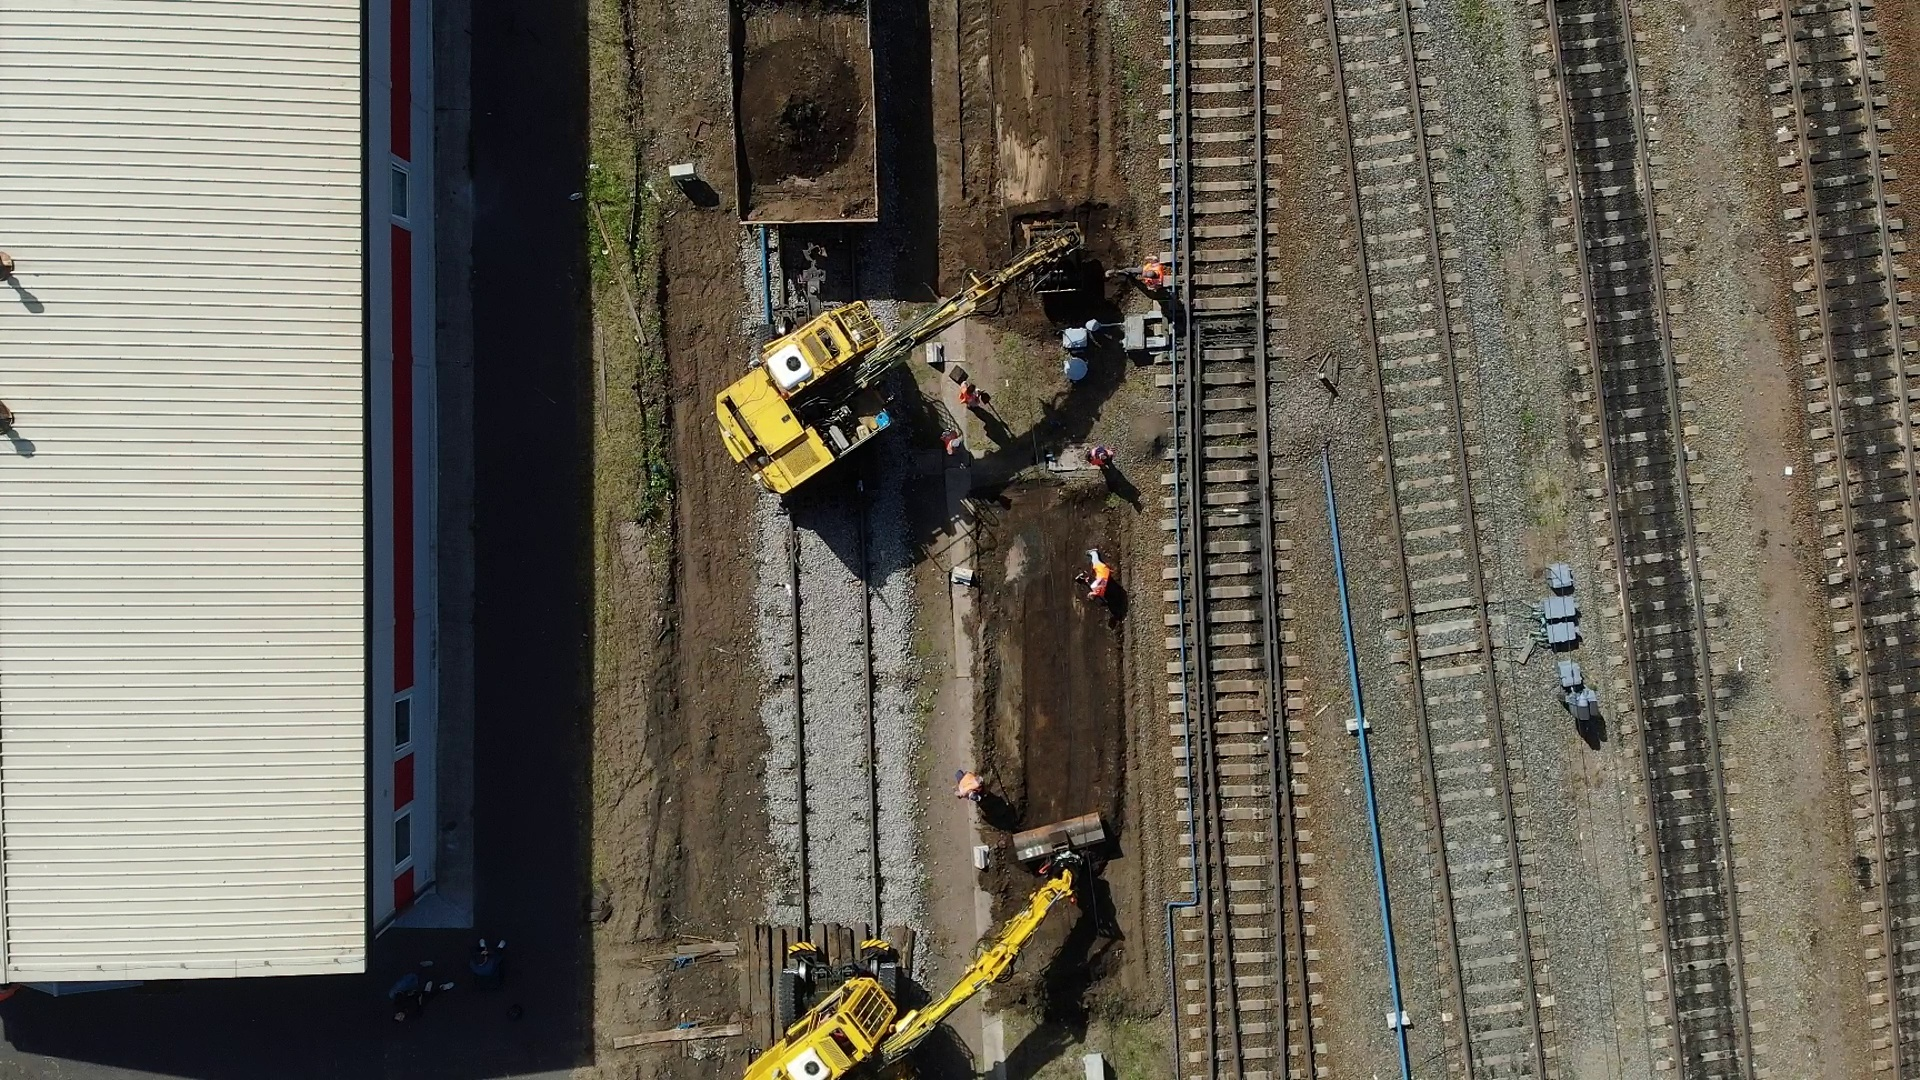kjtv: (719, 287, 975, 495), (758, 934, 1021, 1080)
